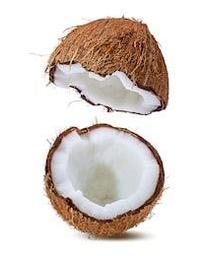coconut: (43, 121, 165, 238), (50, 17, 169, 115)
